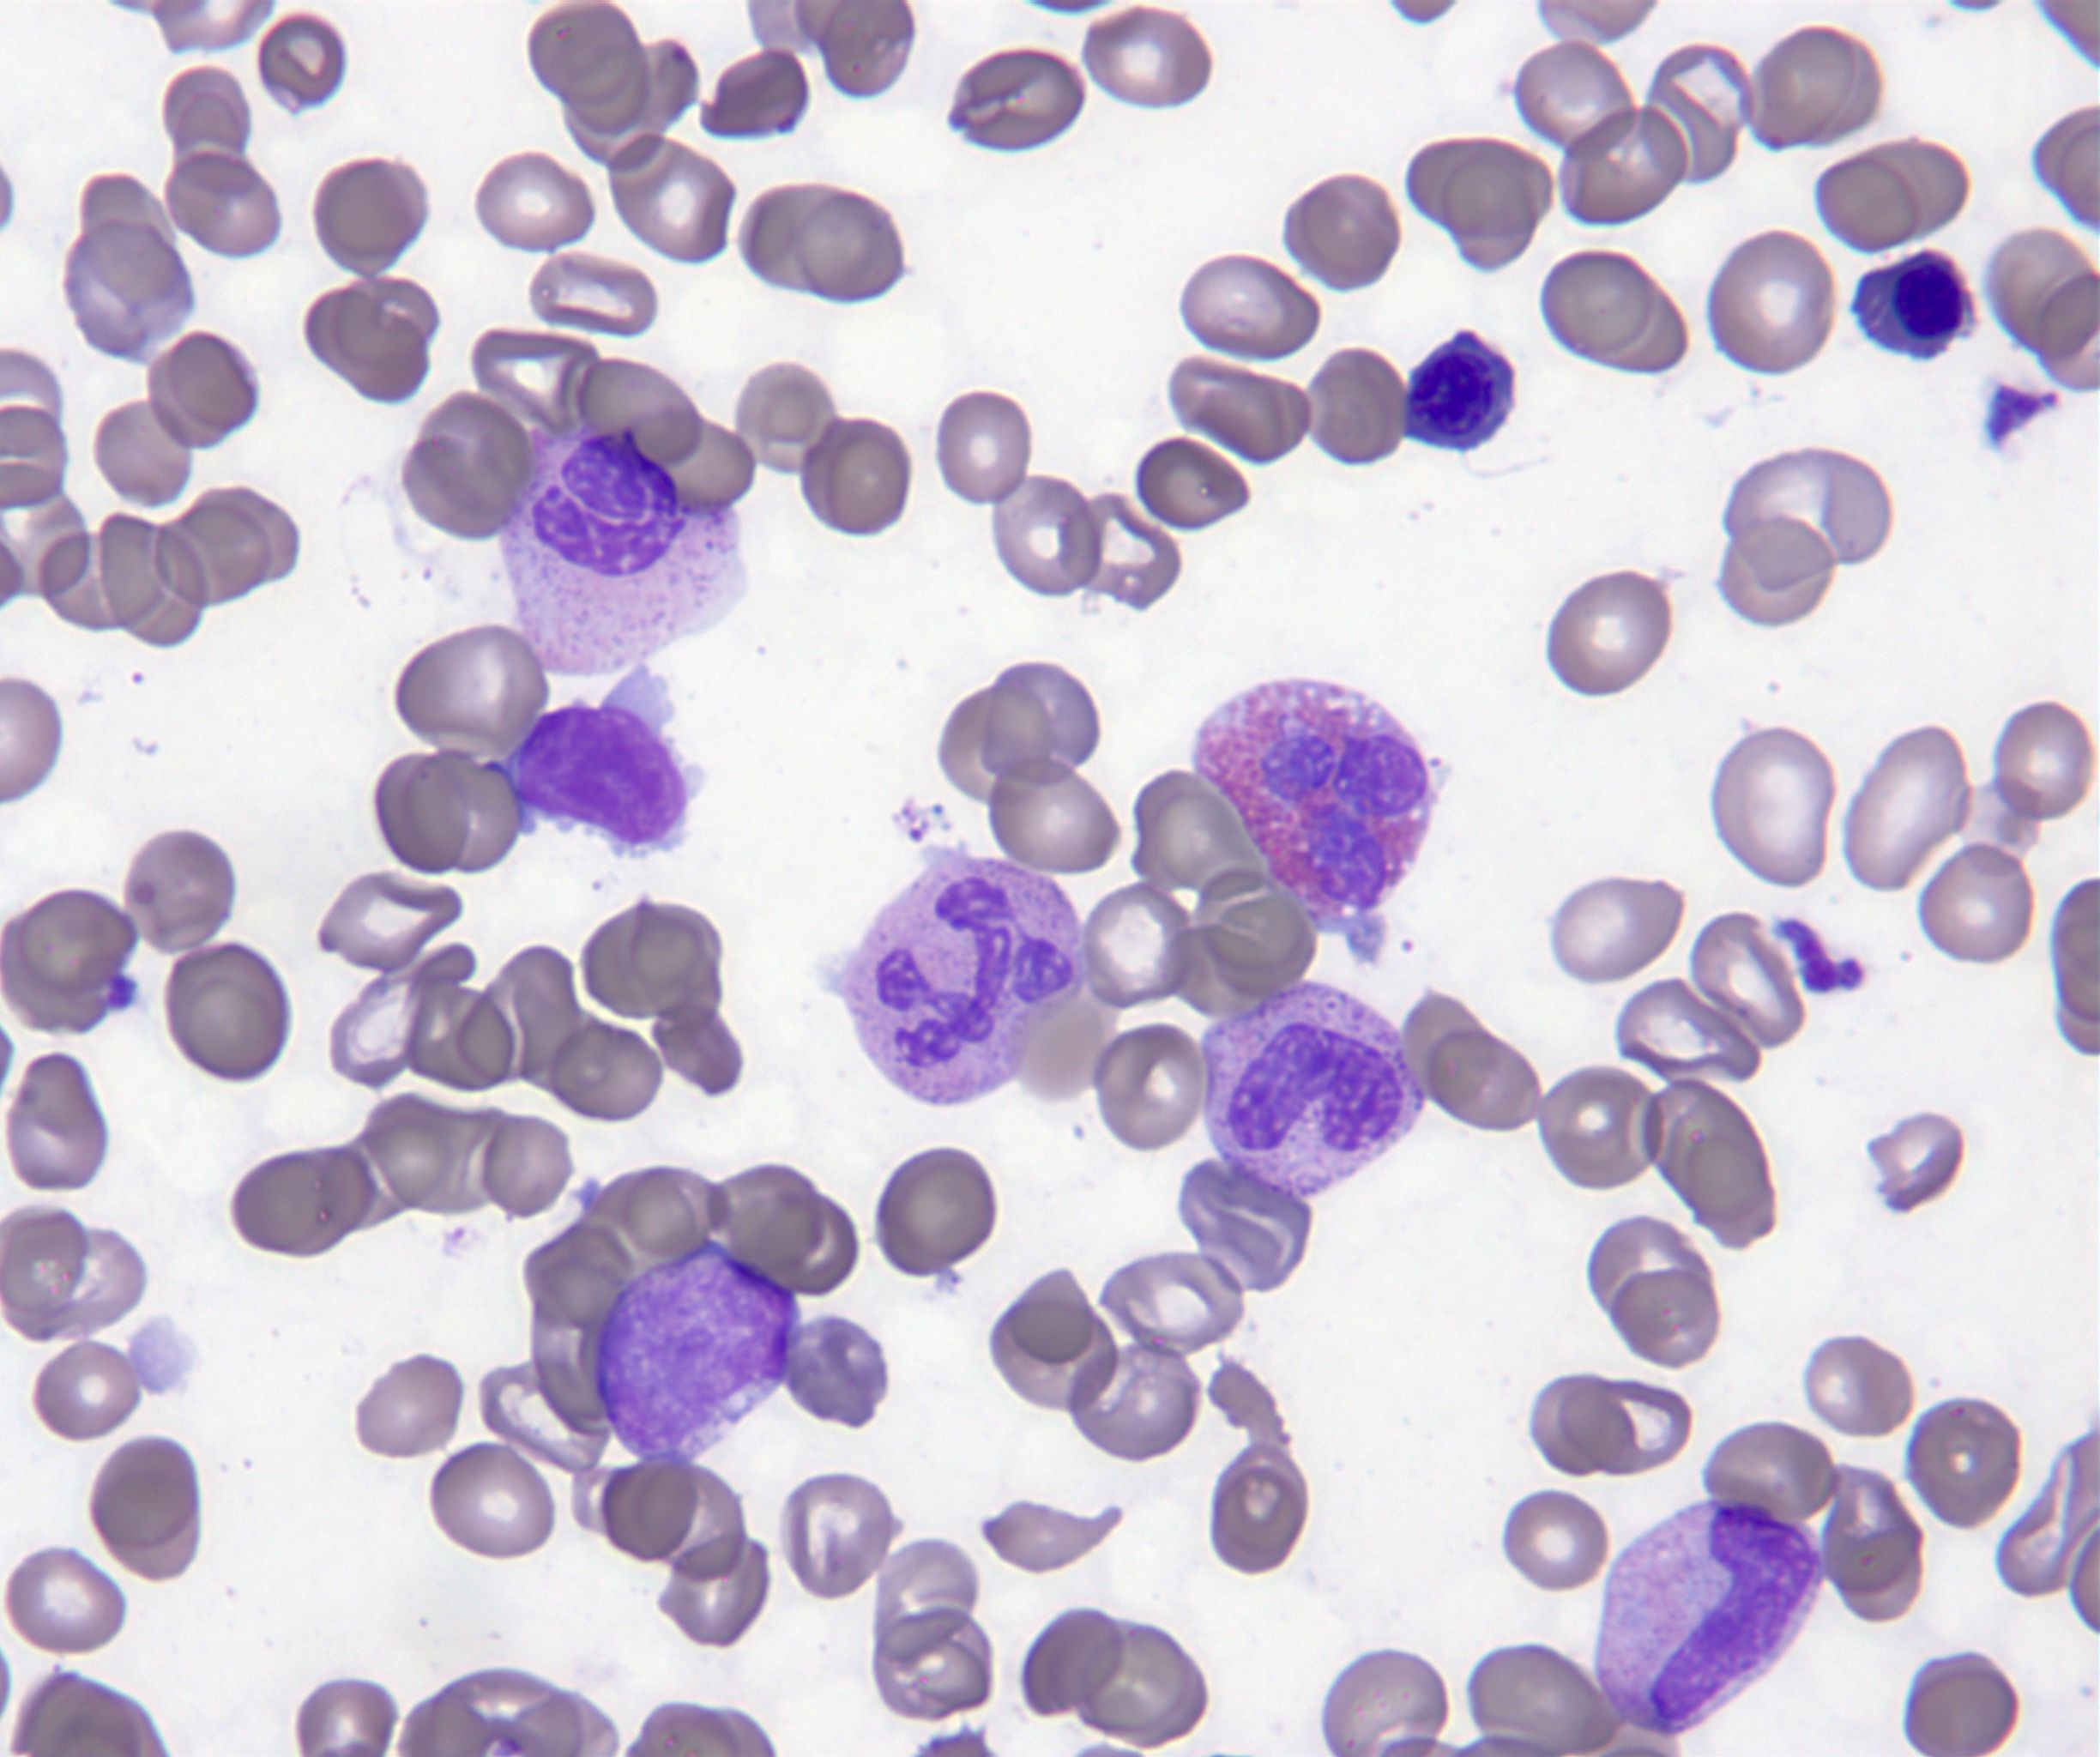32: (597, 1244, 804, 1469), (483, 667, 705, 858)
5: (497, 415, 752, 679), (1596, 1502, 1819, 1736), (1202, 984, 1423, 1200)
6: (834, 844, 1087, 1106)
E4: (1193, 675, 1448, 963)
x: (1399, 328, 1519, 450), (1852, 250, 1981, 361)
